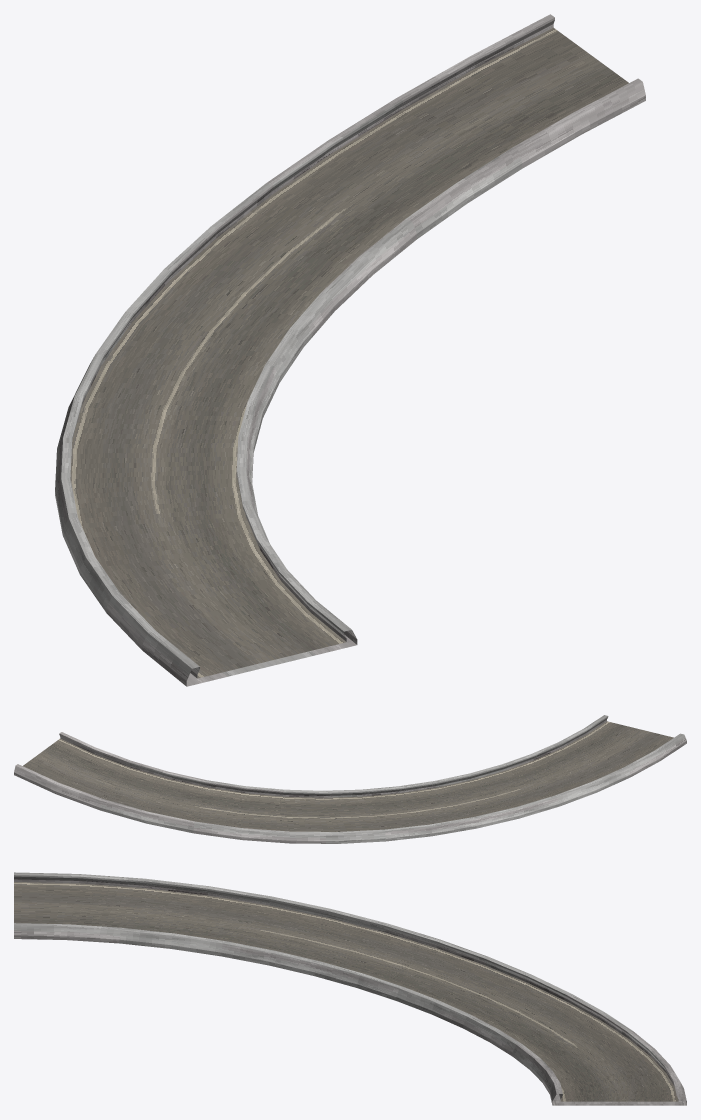
Rendered from turn-right5x5.glb.
The picture shows the model from 3 angles, top to bottom: view 1: azimuth 30°, elevation 25°; view 2: azimuth 150°, elevation 25°; view 3: azimuth 270°, elevation 25°; orthographic projection. The views are drawn at different scales.
Parts seen in each view (by area): view 1: road-Turn-Flat-BiSlopeUp-Up2-Right-Size5; view 2: road-Turn-Flat-BiSlopeUp-Up2-Right-Size5; view 3: road-Turn-Flat-BiSlopeUp-Up2-Right-Size5.
Part boxes in pixels (<box>): road-Turn-Flat-BiSlopeUp-Up2-Right-Size5: <box>55,14,645,686</box>; road-Turn-Flat-BiSlopeUp-Up2-Right-Size5: <box>14,715,686,843</box>; road-Turn-Flat-BiSlopeUp-Up2-Right-Size5: <box>14,872,686,1105</box>.
Bounding box in the file's own units: 5 × 0.6175 × 5.
Materials: 2 (2 with a texture image).
